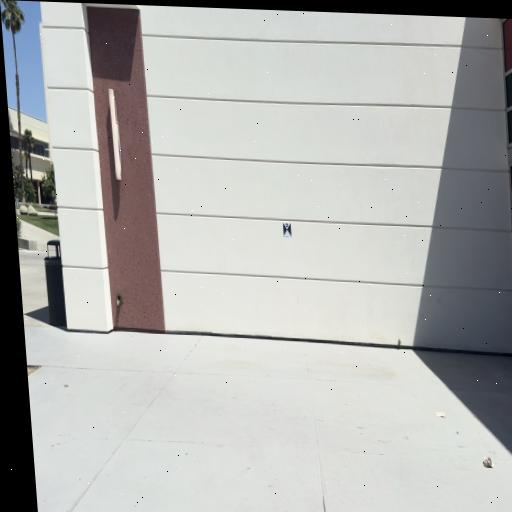target0: (283, 222, 291, 237)
